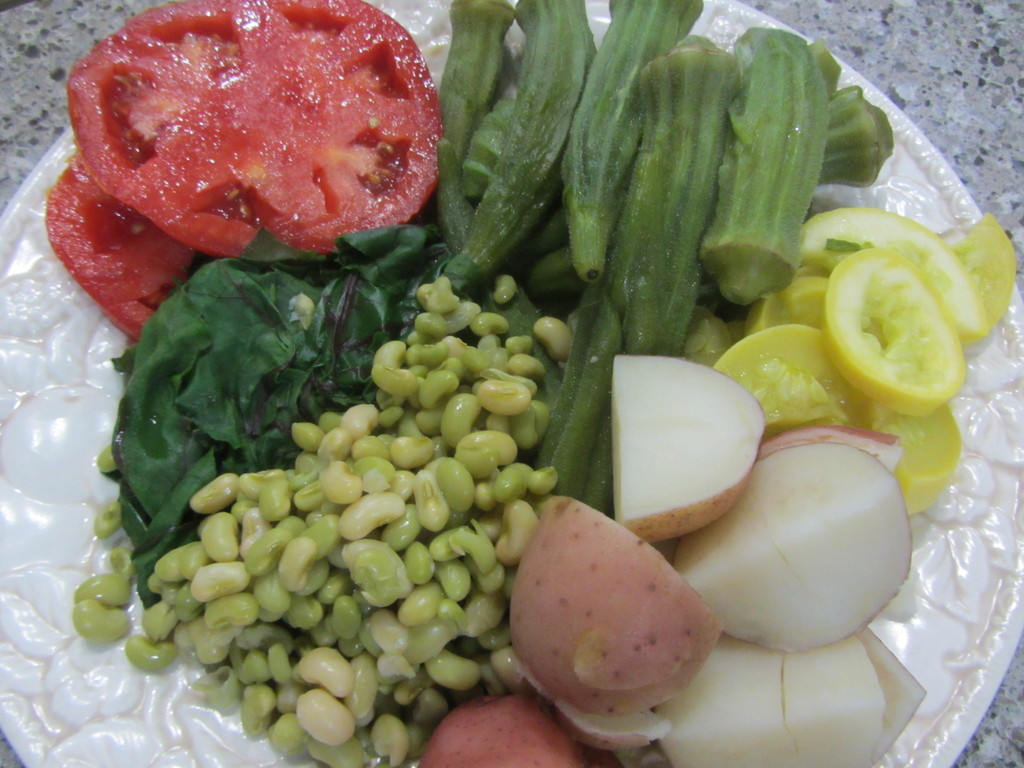Tomato: (62, 17, 455, 230), (36, 153, 218, 338)
